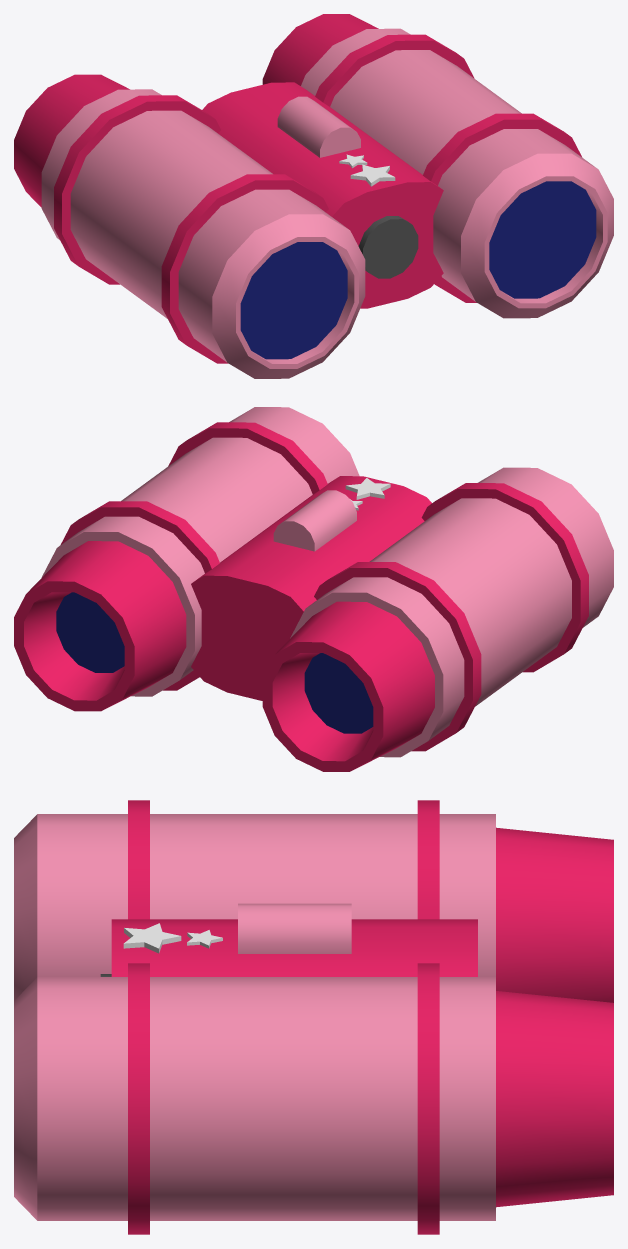
File: Binocle_2.fbx
3 views of the same model, one above another, from view 1: azimuth 30°, elevation 25°; view 2: azimuth 150°, elevation 25°; view 3: azimuth 270°, elevation 25° (orthographic). The views are drawn at different scales.
Visible parts, largest first — view 1: Binocle_2; view 2: Binocle_2; view 3: Binocle_2.
Boxes of the visible parts, x1,y1,x2,y2 form: Binocle_2: (14,14,613,378); Binocle_2: (14,407,613,771); Binocle_2: (14,800,613,1234).
Bounding box in the file's own units: 22.4 × 9.35 × 20.65.
Materials: 1 (1 with a texture image).
